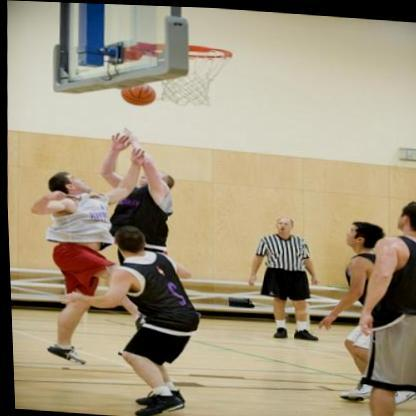basketball: (118, 79, 158, 107)
rim: (143, 42, 232, 62)
